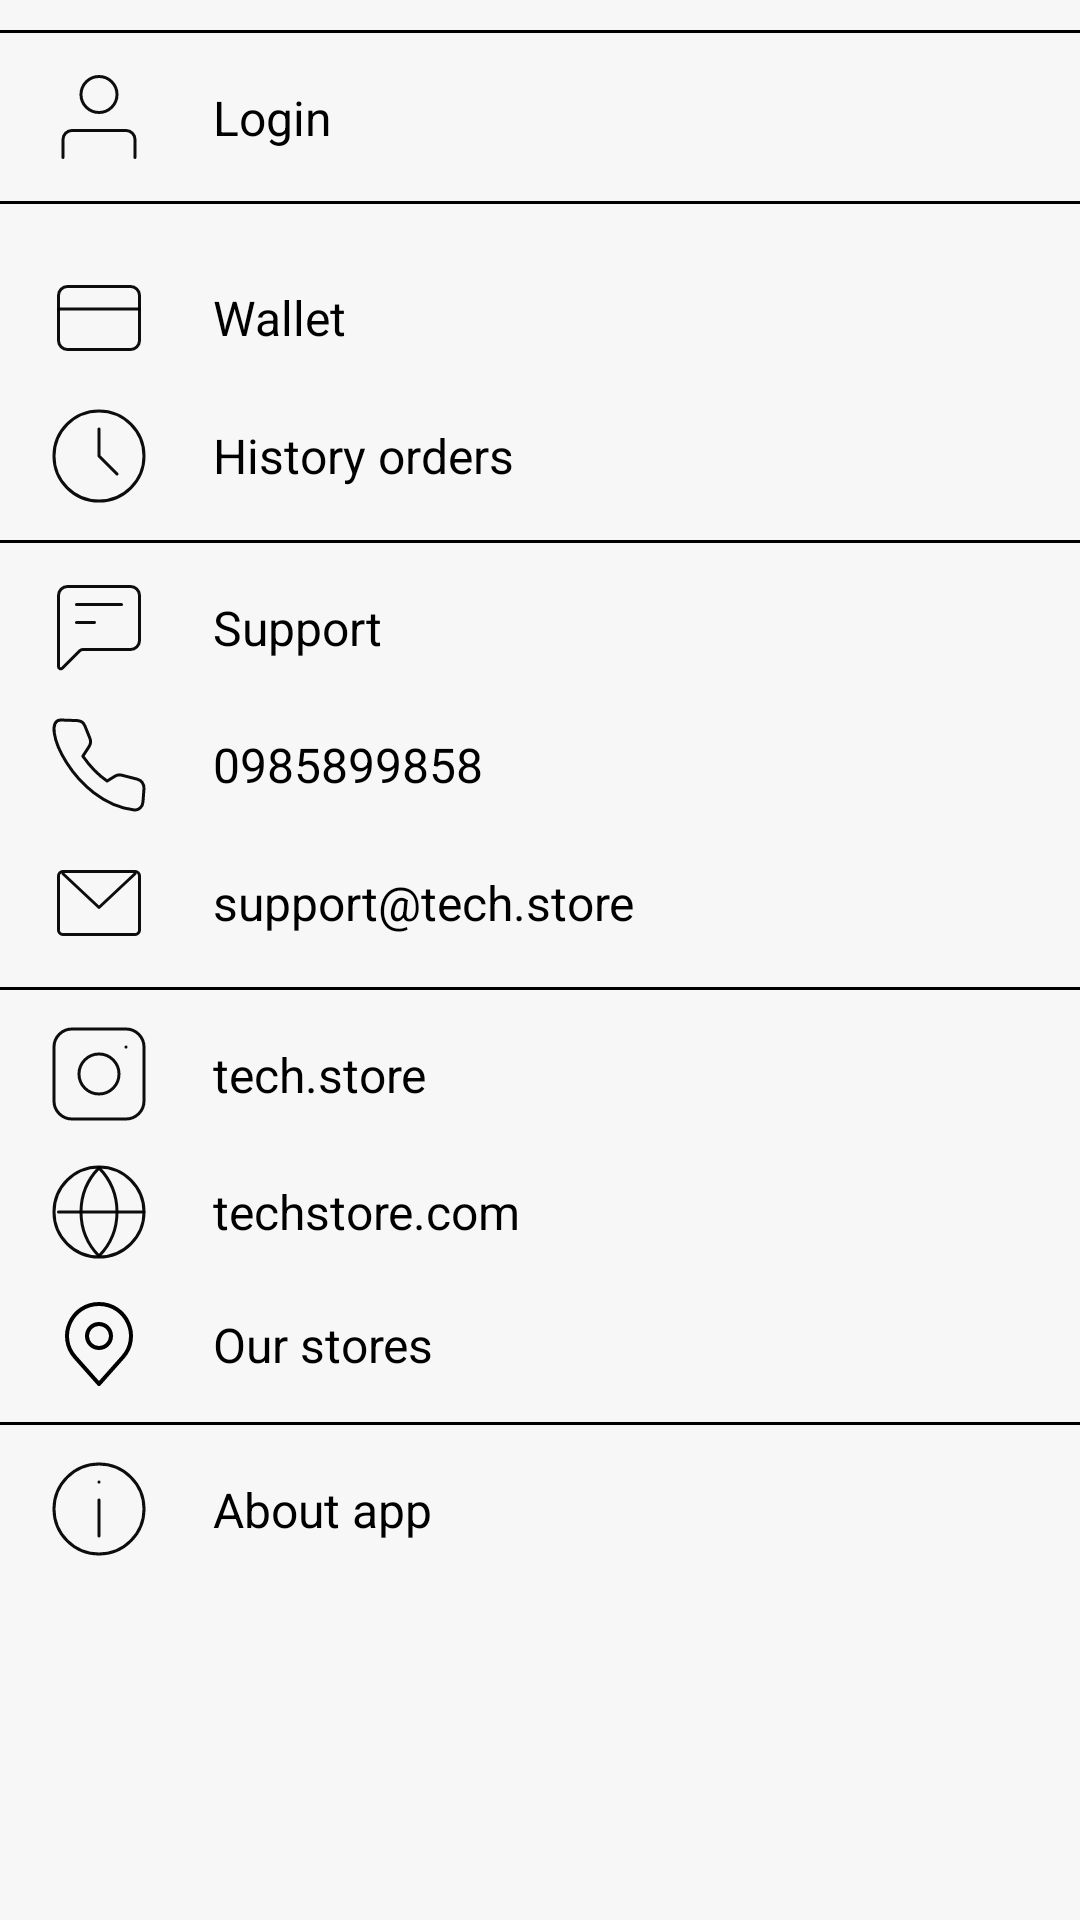

Named icons in this screenshot (1080px×1920px) and their bounding boxes, (x1, y1, x2, y2):
call: (52, 718, 146, 812)
card: (57, 285, 141, 351)
chat: (57, 585, 141, 671)
clock: (52, 409, 146, 503)
globe: (52, 1165, 146, 1259)
info: (52, 1462, 146, 1556)
location: (65, 1302, 133, 1386)
mail: (57, 870, 141, 936)
profile: (61, 75, 137, 159)
